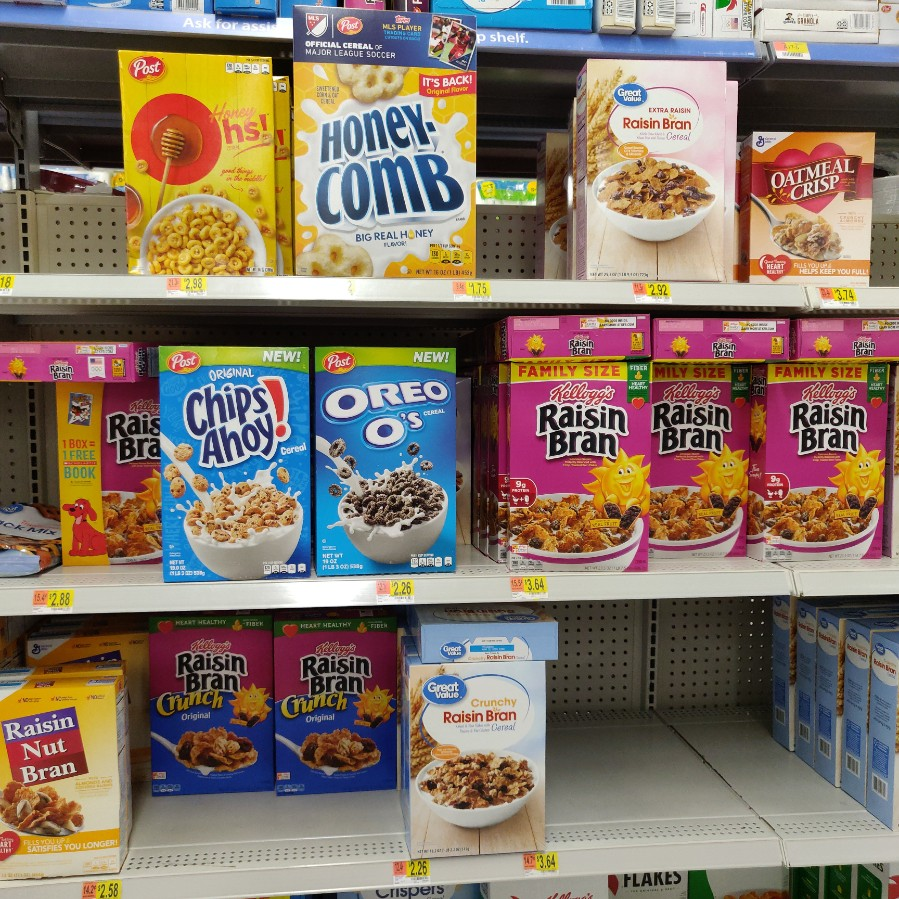Chips Ahoys-565717529: (160, 344, 314, 577)
Honey Comb- 009288857: (298, 3, 478, 274)
Oreo-563424384: (313, 345, 459, 575)
